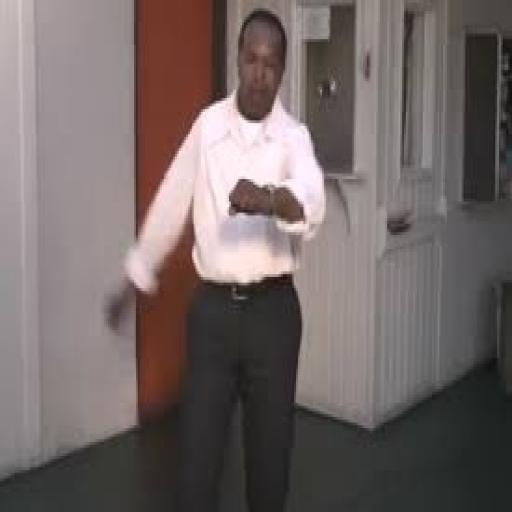dancing: (104, 8, 330, 510)
